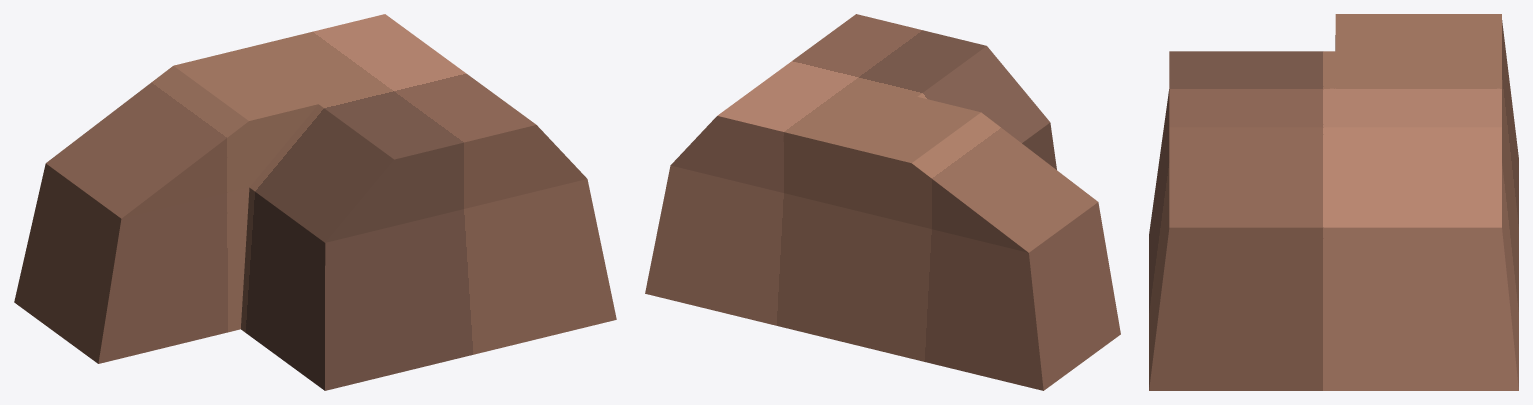
Rendered from small_rock_203x05.gltf.
3 views of the same model, side by side, from view 1: azimuth 30°, elevation 25°; view 2: azimuth 150°, elevation 25°; view 3: azimuth 270°, elevation 25° (orthographic). The views are drawn at different scales.
Visible parts, largest first — view 1: small_rock_203x05; view 2: small_rock_203x05; view 3: small_rock_203x05.
Boxes of the visible parts, x1,y1,x2,y2 form: small_rock_203x05: [14, 14, 616, 390]; small_rock_203x05: [645, 14, 1120, 390]; small_rock_203x05: [1149, 14, 1518, 390].
Bounding box in the file's own units: 0.32 × 0.1447 × 0.2151.
Materials: 1 (1 with a texture image).
